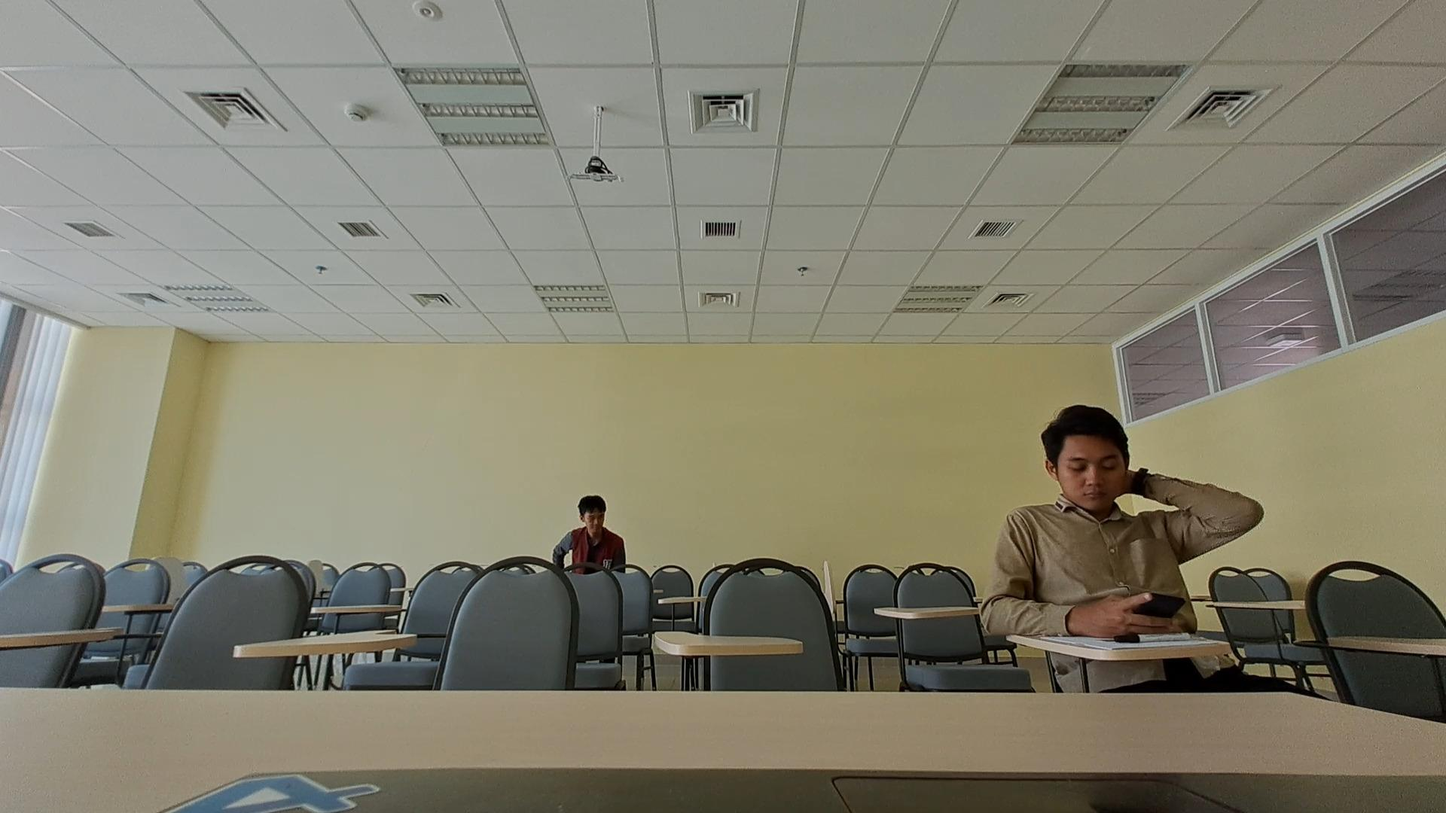phone: (986, 404, 1255, 643)
study: (551, 493, 627, 576)
